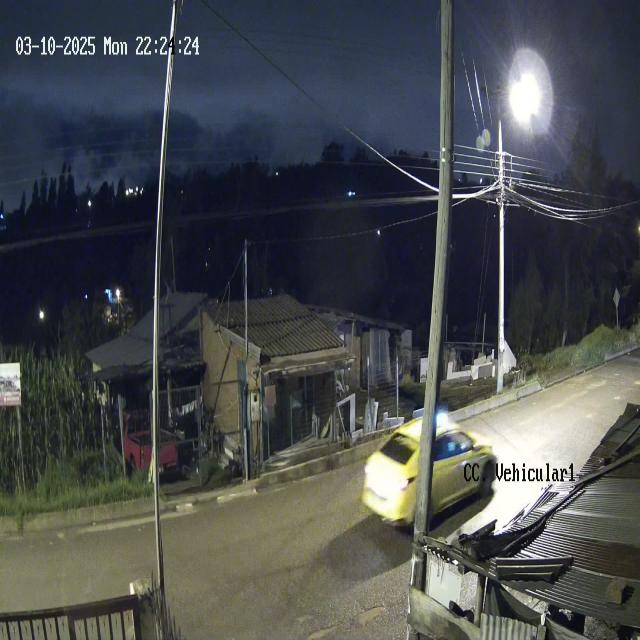SED: (361, 415, 497, 539)
